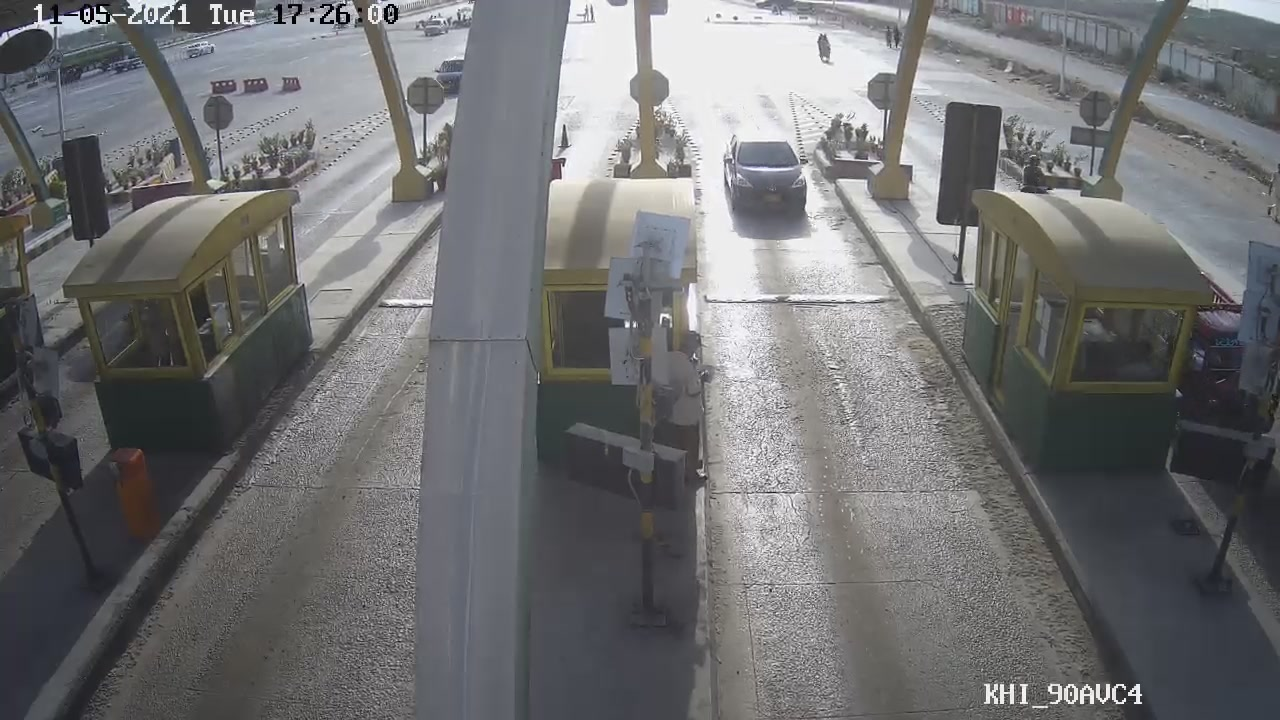F1: (712, 110, 820, 222)
